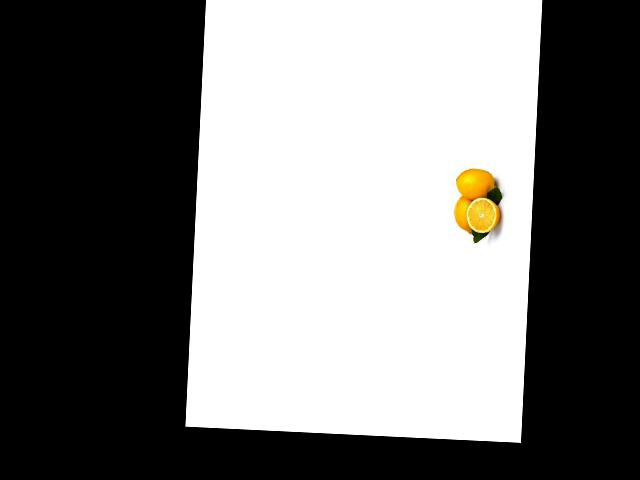lemon: (451, 197, 478, 237)
